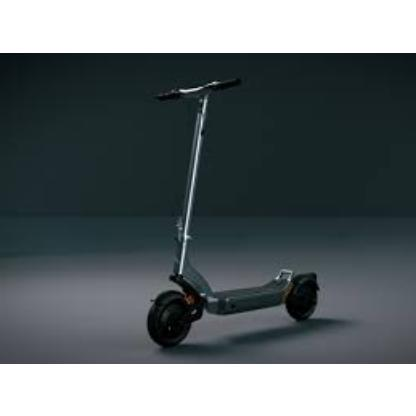bike: (143, 78, 320, 349)
